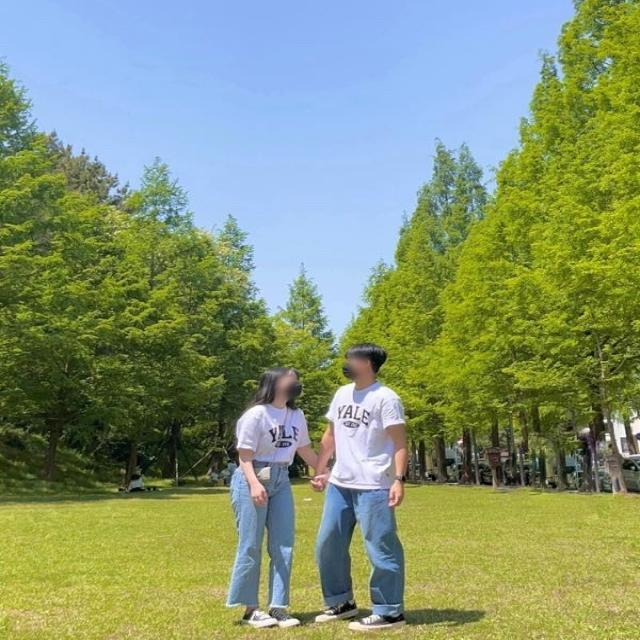denimpants: (315, 482, 401, 618), (228, 460, 295, 608)
shortsleeve: (327, 379, 407, 490), (236, 400, 312, 464)
